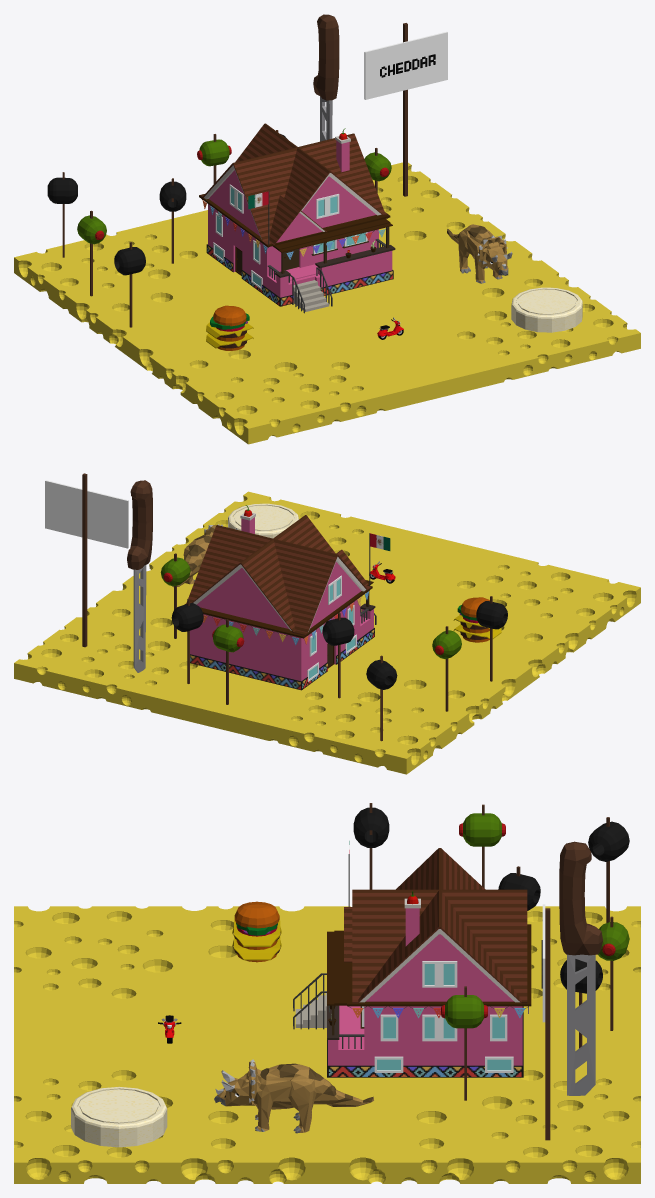
3 renders of one model, top to bottom at view 1: azimuth 30°, elevation 25°; view 2: azimuth 150°, elevation 25°; view 3: azimuth 270°, elevation 25°, orthographic. The views are drawn at different scales.
Parts seen in each view (by area): view 1: Cube.022, Cube.1005, Cube.023, Cylinder.016, Cube.024, ANIMAL_Triceratops, OBJRANDOM_HAMBURGER, Sphere.017, Sphere.016, Sphere.020, Sphere.018, Sphere.022 (+1 smaller); view 2: Cube.022, Cube.1005, Cube.023, Cube.024, Cylinder.016, OBJRANDOM_HAMBURGER, Sphere.017, Sphere.020, Sphere.021, Sphere.016, Sphere.018, Sphere.022 (+2 smaller); view 3: Cube.022, Cube.1005, Cube.024, ANIMAL_Triceratops, Cylinder.016, OBJRANDOM_HAMBURGER, Cube.023, Sphere.019, Sphere.016, Sphere.018, Sphere.017, Sphere.022 (+2 smaller).
Boxes of the visible parts, x1=… form: Cube.022: x1=14, y1=162, x2=640, y2=444; Cube.1005: x1=199, y1=123, x2=395, y2=313; Cube.023: x1=364, y1=23, x2=447, y2=196; Cylinder.016: x1=511, y1=287, x2=582, y2=332; Cube.024: x1=313, y1=14, x2=339, y2=141; ANIMAL_Triceratops: x1=447, y1=224, x2=512, y2=283; OBJRANDOM_HAMBURGER: x1=206, y1=305, x2=253, y2=350; Sphere.017: x1=114, y1=242, x2=145, y2=327; Sphere.016: x1=47, y1=172, x2=77, y2=257; Sphere.020: x1=159, y1=178, x2=186, y2=263; Sphere.018: x1=77, y1=210, x2=106, y2=296; Sphere.022: x1=197, y1=134, x2=231, y2=183; Cube.022: x1=14, y1=491, x2=640, y2=774; Cube.1005: x1=184, y1=505, x2=390, y2=690; Cube.023: x1=45, y1=473, x2=128, y2=647; Cube.024: x1=127, y1=480, x2=152, y2=672; Cylinder.016: x1=228, y1=503, x2=298, y2=538; OBJRANDOM_HAMBURGER: x1=453, y1=597, x2=501, y2=642; Sphere.017: x1=476, y1=596, x2=507, y2=681; Sphere.020: x1=322, y1=612, x2=354, y2=698; Sphere.021: x1=171, y1=598, x2=203, y2=683; Sphere.016: x1=366, y1=655, x2=397, y2=741; Sphere.018: x1=432, y1=626, x2=461, y2=711; Sphere.022: x1=212, y1=619, x2=244, y2=704; Cube.022: x1=14, y1=906, x2=640, y2=1183; Cube.1005: x1=293, y1=841, x2=531, y2=1077; Cube.024: x1=559, y1=841, x2=602, y2=1095; ANIMAL_Triceratops: x1=214, y1=1059, x2=373, y2=1133; Cylinder.016: x1=71, y1=1086, x2=167, y2=1147; OBJRANDOM_HAMBURGER: x1=232, y1=901, x2=281, y2=962; Cube.023: x1=541, y1=904, x2=550, y2=1140; Sphere.019: x1=441, y1=986, x2=487, y2=1100; Sphere.016: x1=588, y1=817, x2=629, y2=922; Sphere.018: x1=459, y1=804, x2=505, y2=888; Sphere.017: x1=353, y1=803, x2=389, y2=889; Sphere.022: x1=598, y1=916, x2=629, y2=1030.
Size of the model in its own units: 3917 by 2108 by 4000.
Materials: 74 (5 with a texture image).
